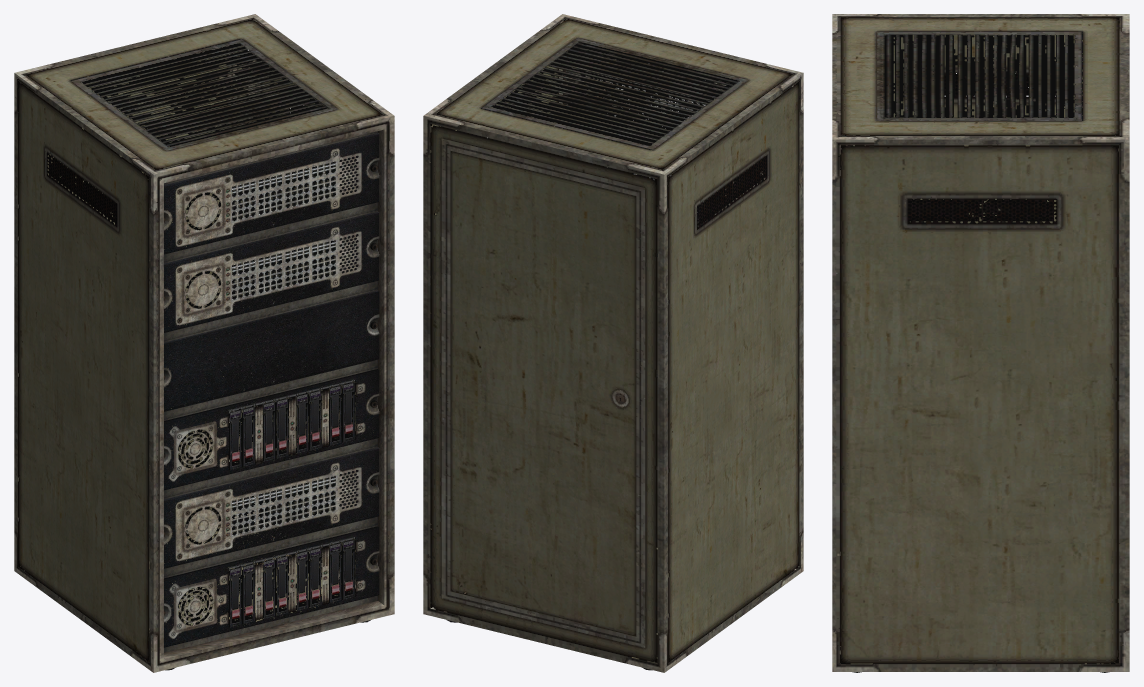
Rendered from server_rack04.dae.
The picture shows the model from 3 angles, left to right: view 1: azimuth 30°, elevation 25°; view 2: azimuth 150°, elevation 25°; view 3: azimuth 270°, elevation 25°; orthographic projection. The views are drawn at different scales.
Visible parts, largest first — view 1: polySurface69; view 2: polySurface69; view 3: polySurface69.
Boxes of the visible parts, bbox=[...] form: polySurface69: bbox=[14, 14, 394, 672]; polySurface69: bbox=[423, 14, 803, 672]; polySurface69: bbox=[832, 14, 1129, 672].
Bounding box in the file's own units: 1.13 × 2.26 × 1.13.
